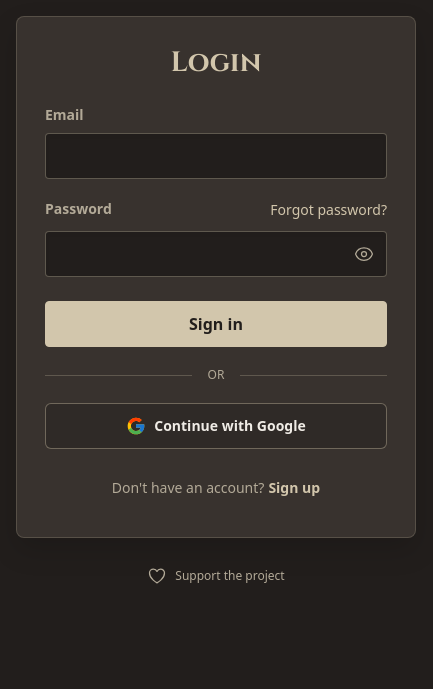
shows a readable error for auth/network-request-failed and allows retry
Type "player@example.com" into the field labelled "Email" at (216, 156), box left=45, top=133, right=387, bottom=179
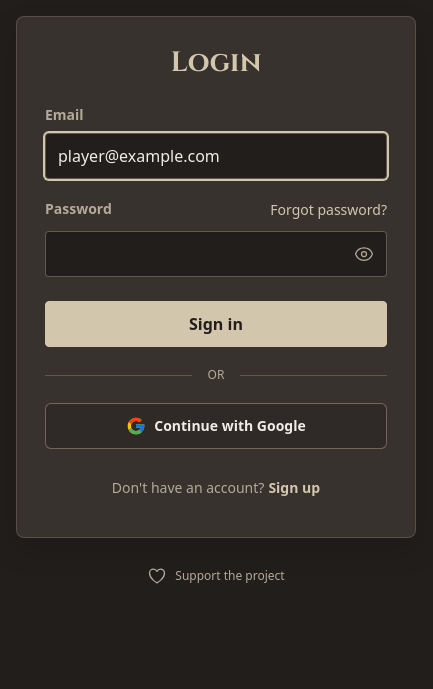
Type "correct horse battery staple" into the password field labelled "Password" at (216, 254), box left=45, top=231, right=387, bottom=277
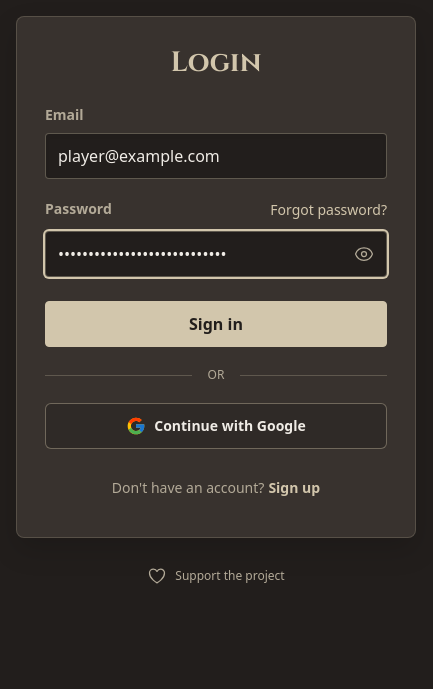
Click the button "Sign in" at (216, 324), box left=45, top=301, right=387, bottom=347
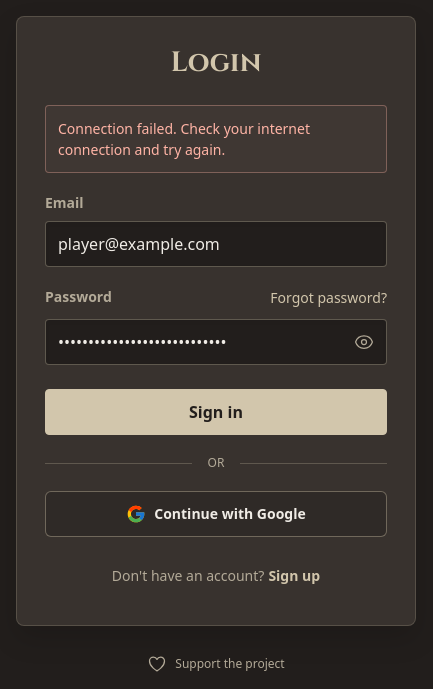
Now the message reads "Connection failed. Check your internet connection and try again.", box left=58, top=119, right=310, bottom=159
Click the button "Sign in" at (216, 412), box left=45, top=389, right=387, bottom=435
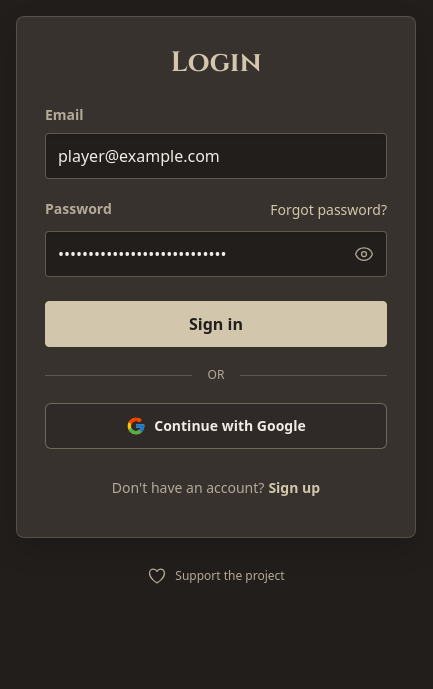
Now the message "Connection failed. Check your internet connection and try again." is gone
